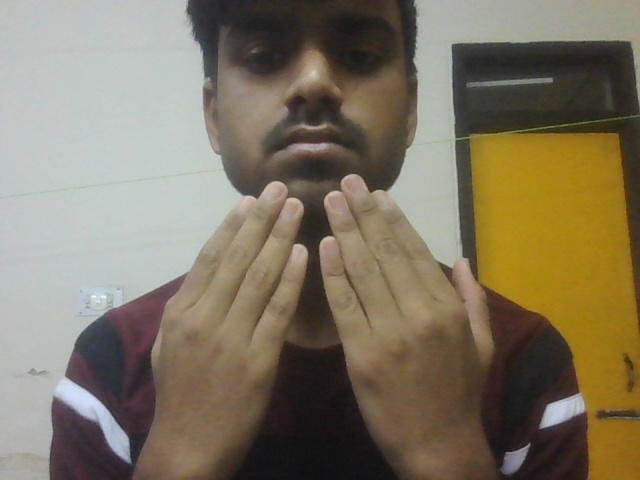thanks: (136, 169, 518, 480)
